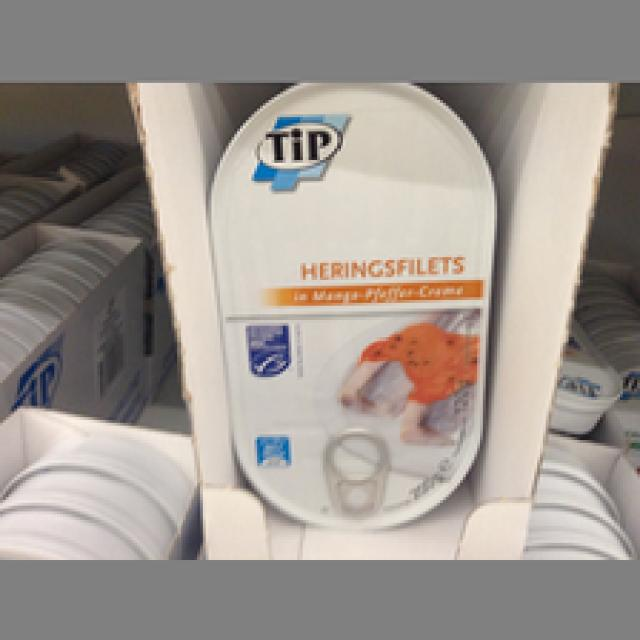groceries: (209, 80, 494, 526)
